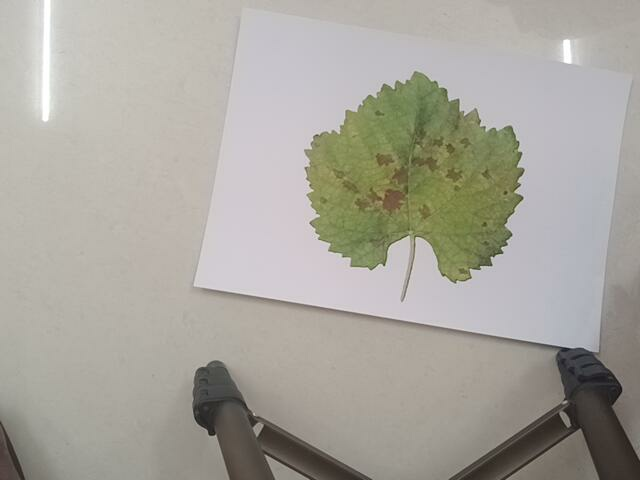Grape_Leaf_Vine_Disease: (287, 51, 554, 315)
